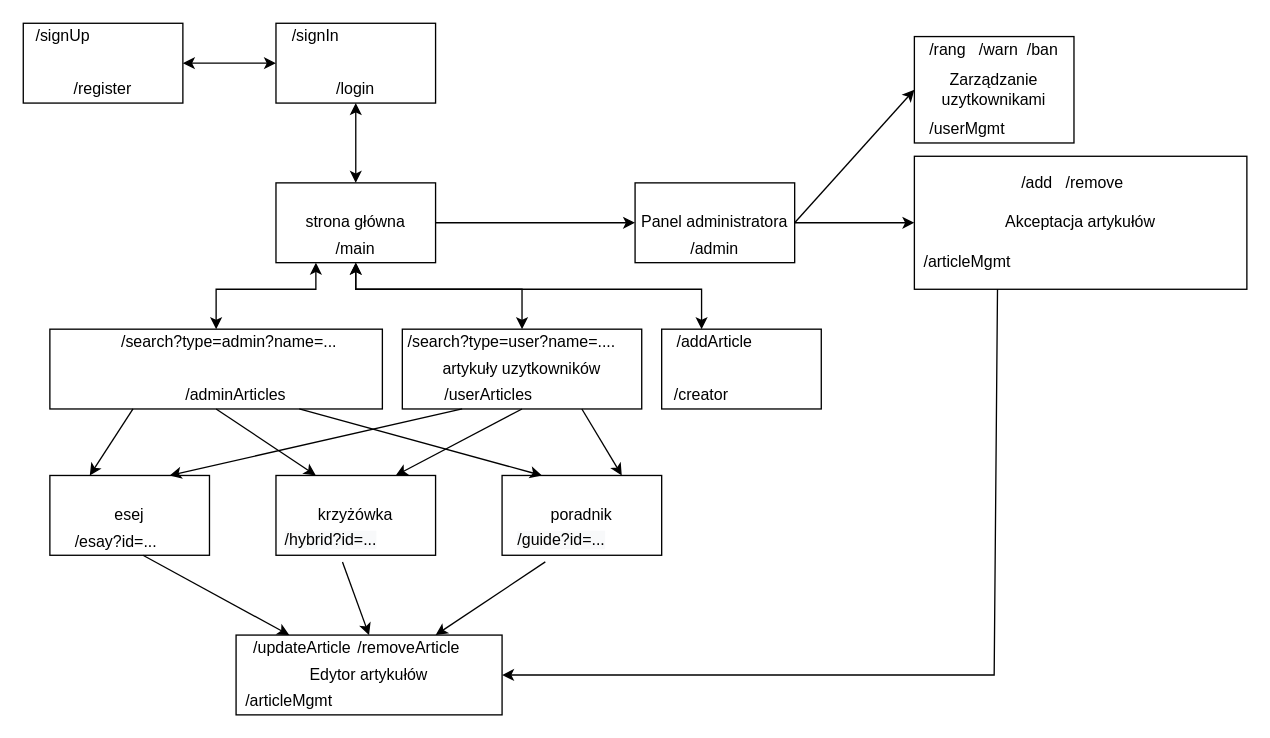
The diagram is 1270 pixels wide and 738 high, and some of its shapes have lost their labels. The shapes that lost their labels are listed below. From the top down, each one's box as (x1, y1, x2, y2) in pixels, then its label:
(22, 22, 183, 103): rejestracja
(275, 22, 436, 103): logowanie
(49, 328, 382, 409): artykuły adminów
(660, 328, 821, 409): Kreator artykułów
